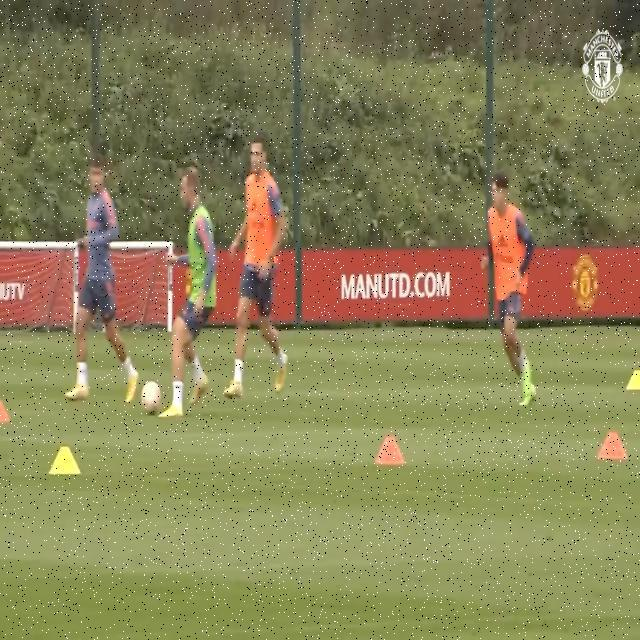Adidas: (497, 234, 508, 248)
